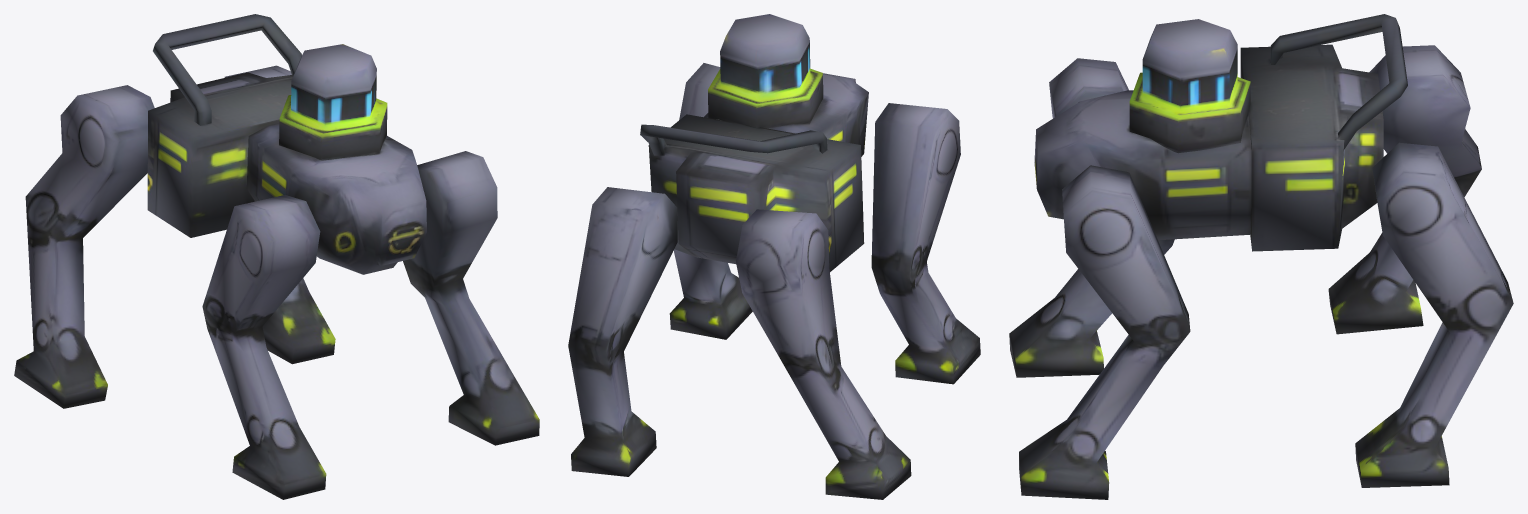
Rendered from robot_dog.glb.
3 views of the same model, side by side, from view 1: azimuth 30°, elevation 25°; view 2: azimuth 150°, elevation 25°; view 3: azimuth 270°, elevation 25° (orthographic). The views are drawn at different scales.
Parts seen in each view (by area): view 1: RobotDog; view 2: RobotDog; view 3: RobotDog.
Part boxes in pixels (x1,y1,x2,y2): RobotDog: (14,14,539,499); RobotDog: (568,14,980,499); RobotDog: (1009,14,1513,499).
Bounding box in the file's own units: 0.8903 × 0.9 × 1.
1 material, 1 textured.
